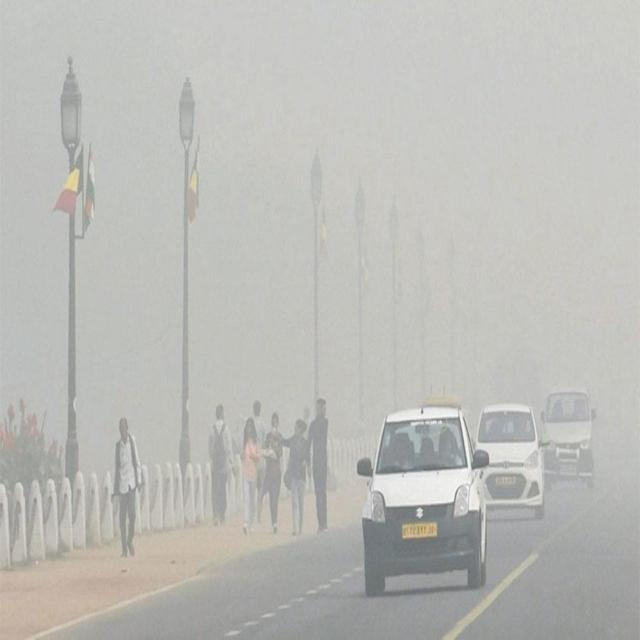Car: (355, 408, 488, 586), (471, 406, 545, 512), (542, 387, 597, 480)
